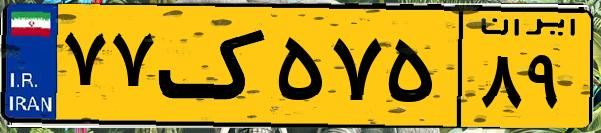5: (270, 28, 330, 110), (385, 28, 445, 110)
7: (330, 28, 385, 110), (57, 26, 110, 100), (110, 28, 158, 98)
8: (475, 38, 525, 113)
9: (525, 38, 570, 115)
ک: (158, 12, 270, 120)
